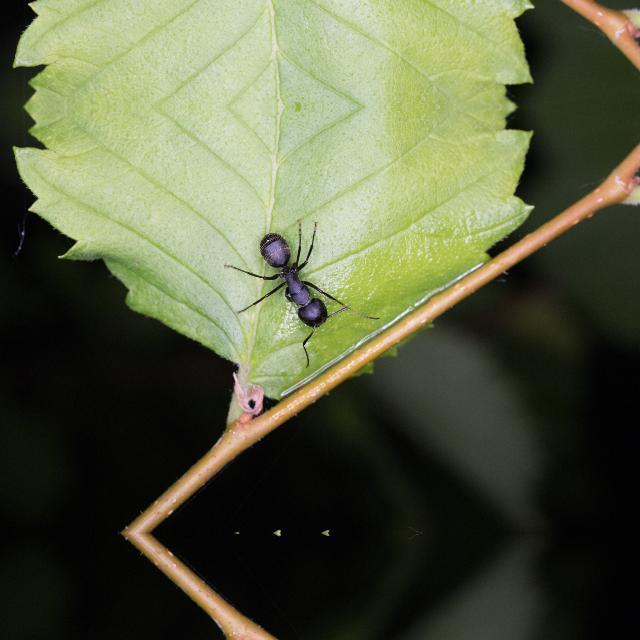Camponotus: (242, 210, 348, 346)
